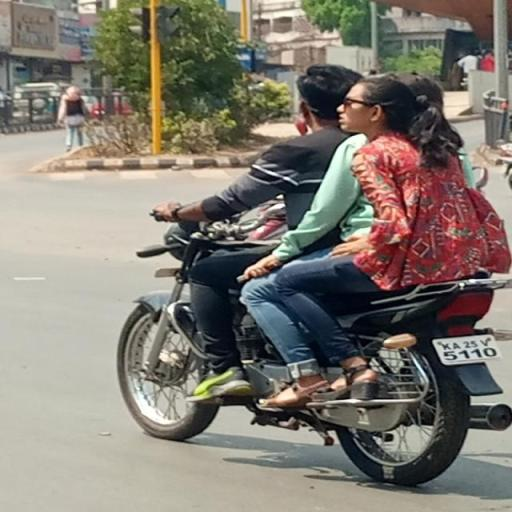tripple riding: (132, 62, 512, 273)
